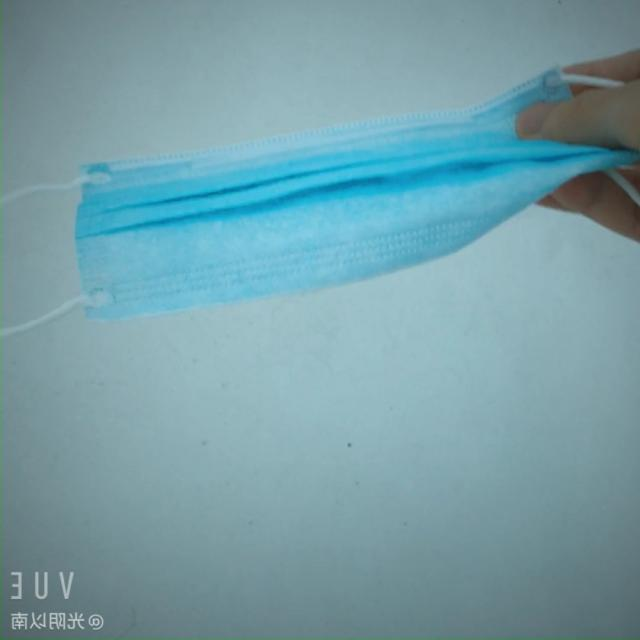face mask: (79, 116, 572, 303)
